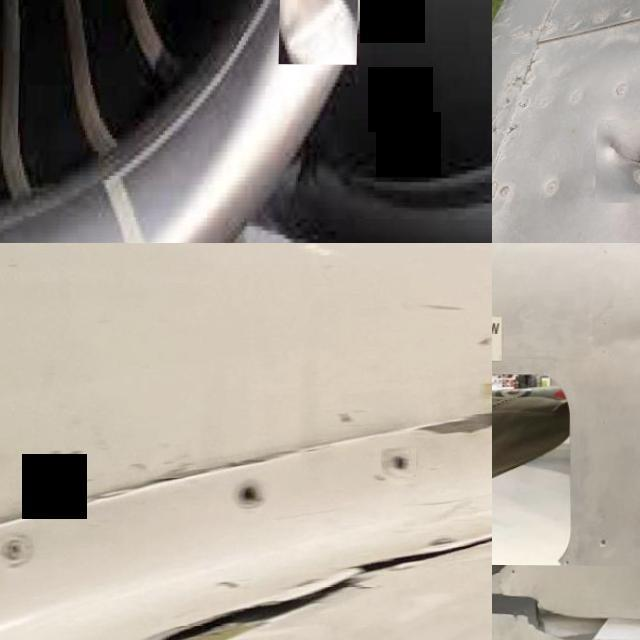Crack: (85, 551, 463, 640), (492, 586, 640, 640), (597, 119, 640, 202)
Dent: (284, 0, 359, 63)
Missing_Fastener: (228, 479, 276, 507), (382, 448, 418, 476)
